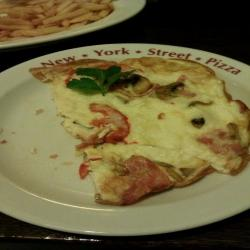omelette: (39, 53, 248, 196)
